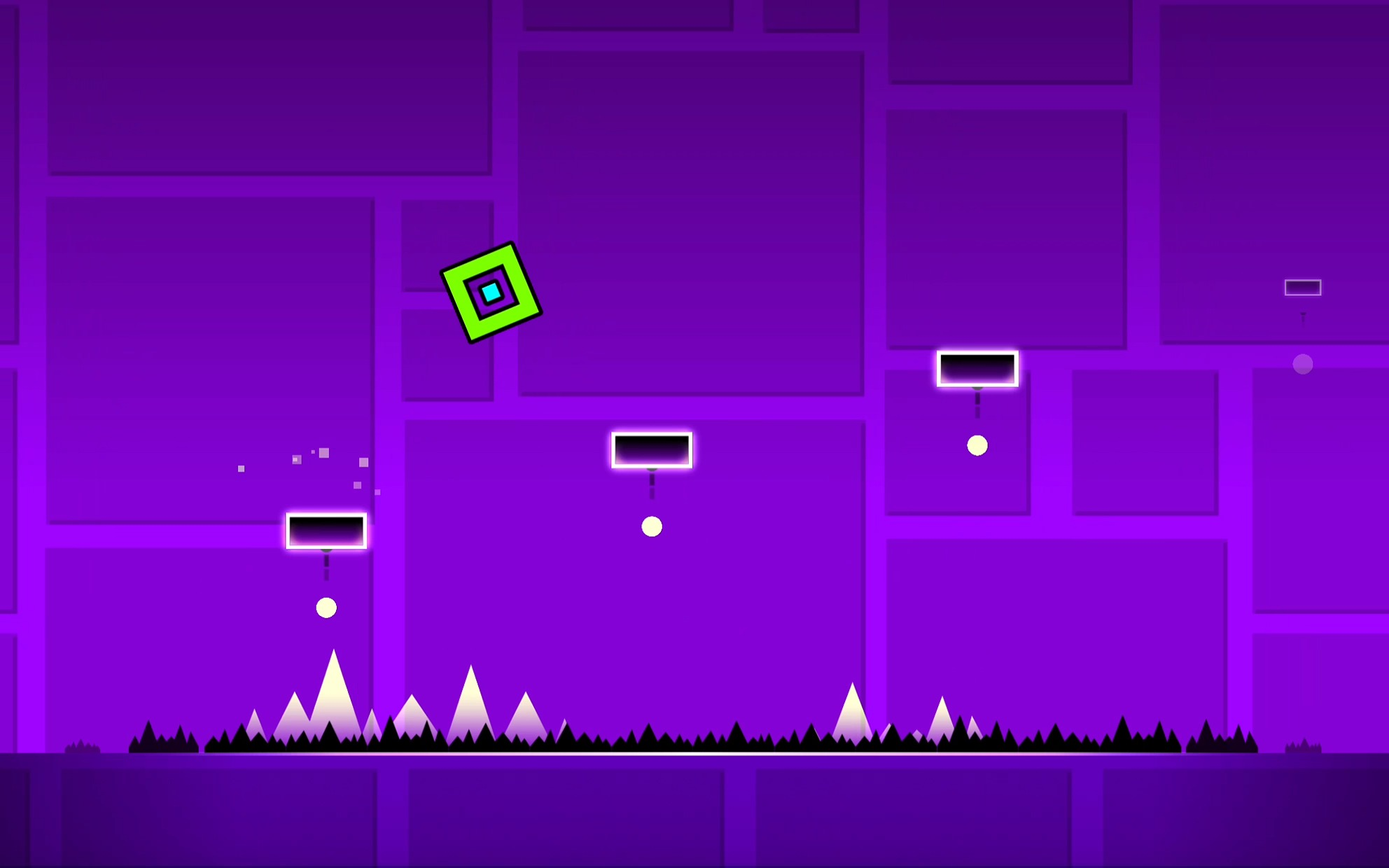Block3: (609, 431, 694, 469), (287, 514, 373, 549), (940, 354, 1024, 389), (1286, 280, 1325, 296)
Player: (444, 245, 543, 345)
Spike3: (37, 714, 1378, 762)
